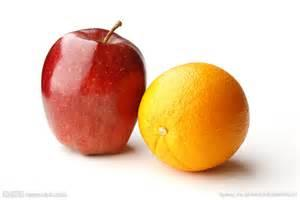apple: (38, 25, 139, 154)
